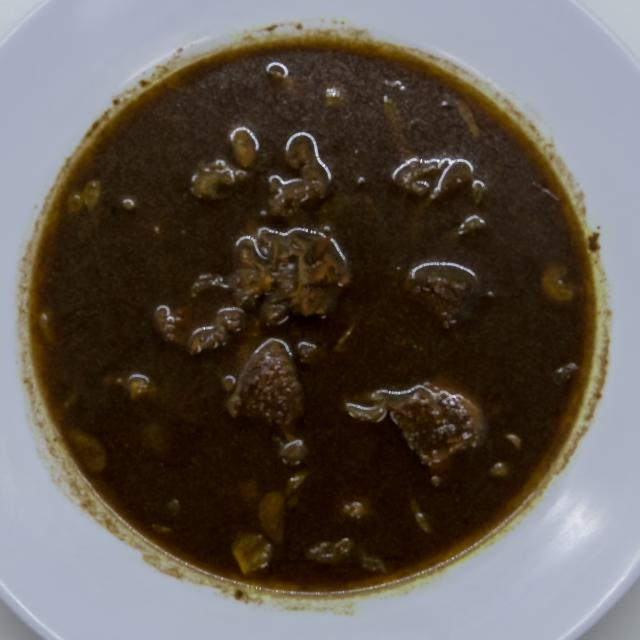Rawon-Surabaya: (24, 14, 609, 608)
